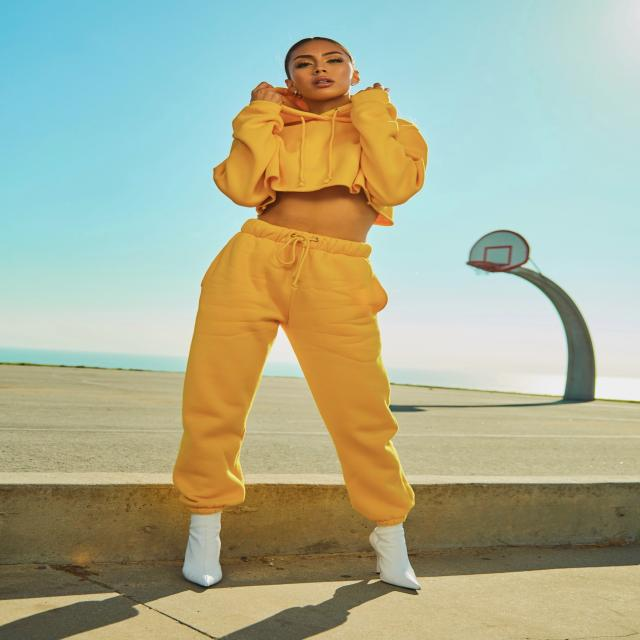adult: (164, 31, 432, 594)
